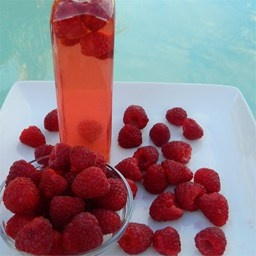background: (0, 0, 51, 102), (46, 41, 91, 102), (16, 14, 81, 56)
